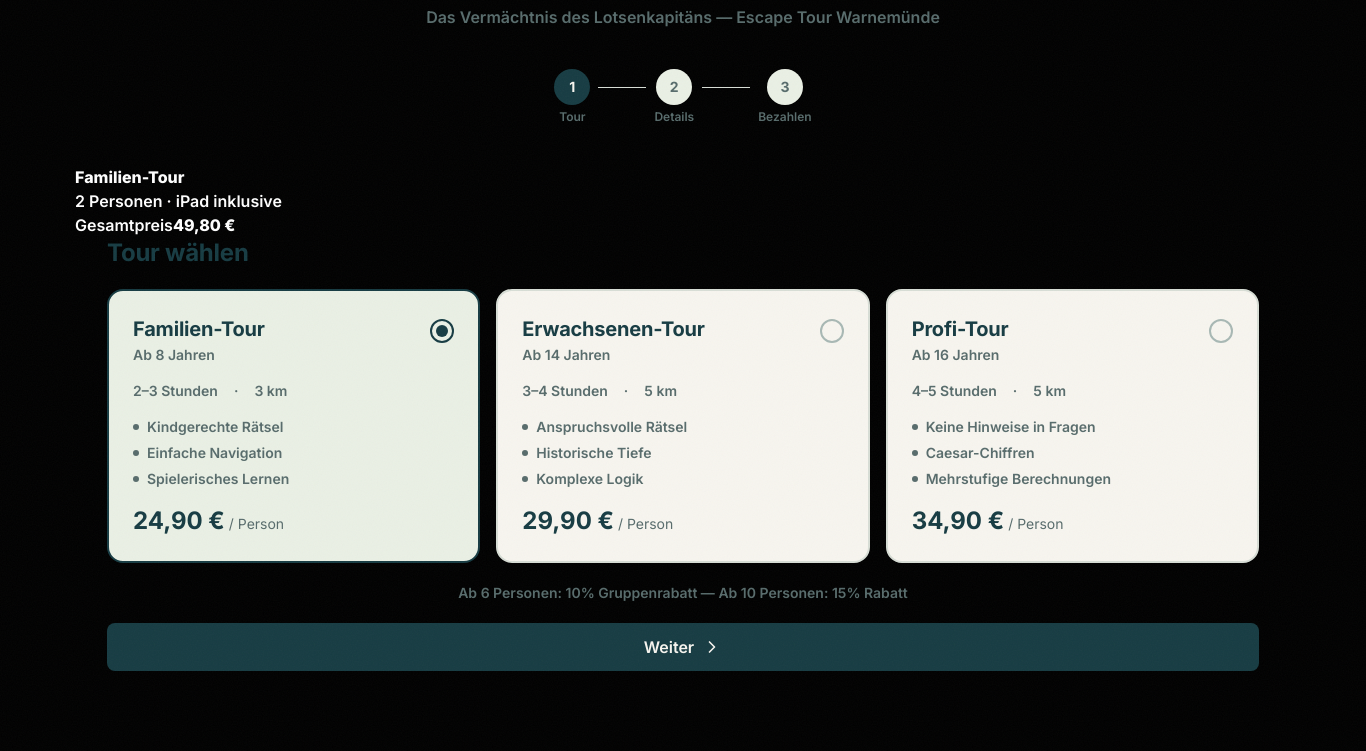
Test: Booking selection and running total › retains the selected landing-page variant and applies the checkout discount rounding
The width and height of the screenshot is (1366, 751).
(page scrolled)
Expected: the text "Familien-Tour" is shown, left=75, top=167, right=184, bottom=187
Expected: the text "49,80 €" is shown, left=173, top=215, right=235, bottom=235
Click the button "Weiter". click: x=683, y=647
box: left=107, top=623, right=1259, bottom=671
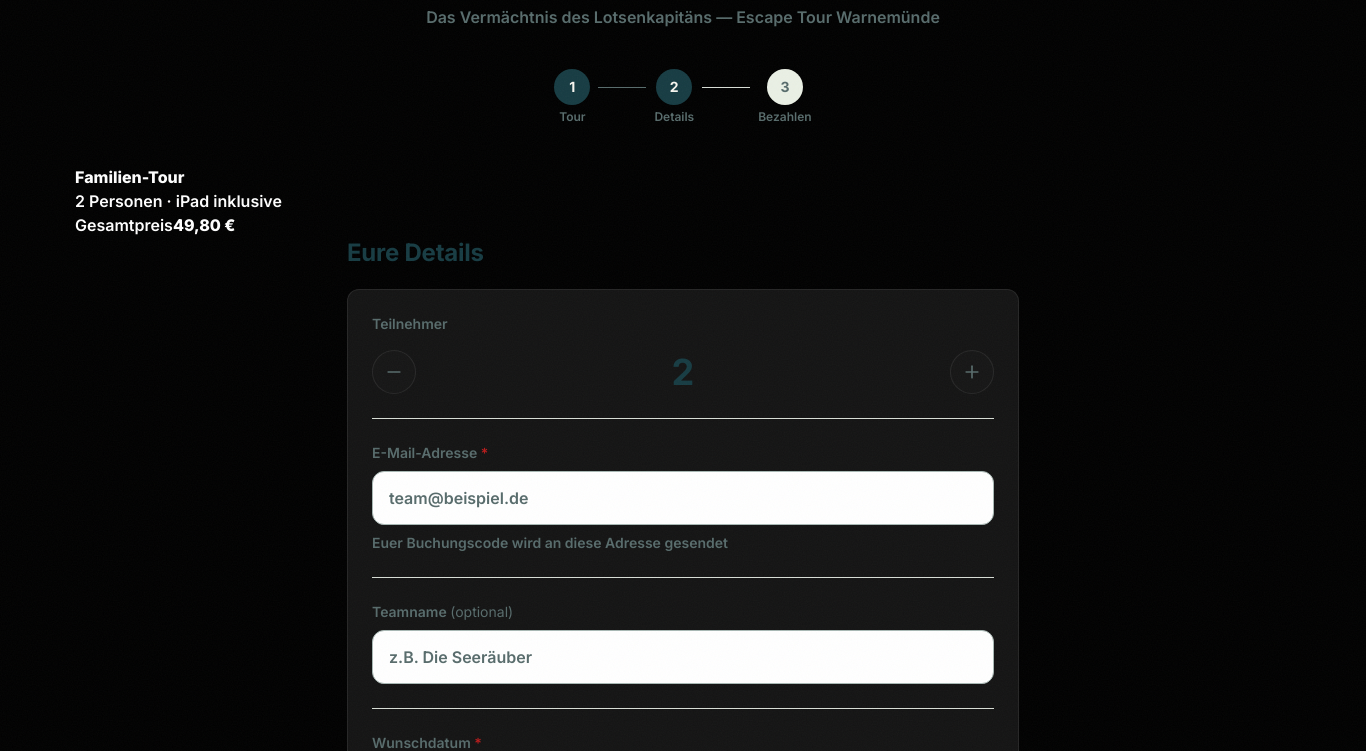
Click the button named "Teilnehmer erhöhen". click: x=972, y=372
box: left=950, top=350, right=994, bottom=394
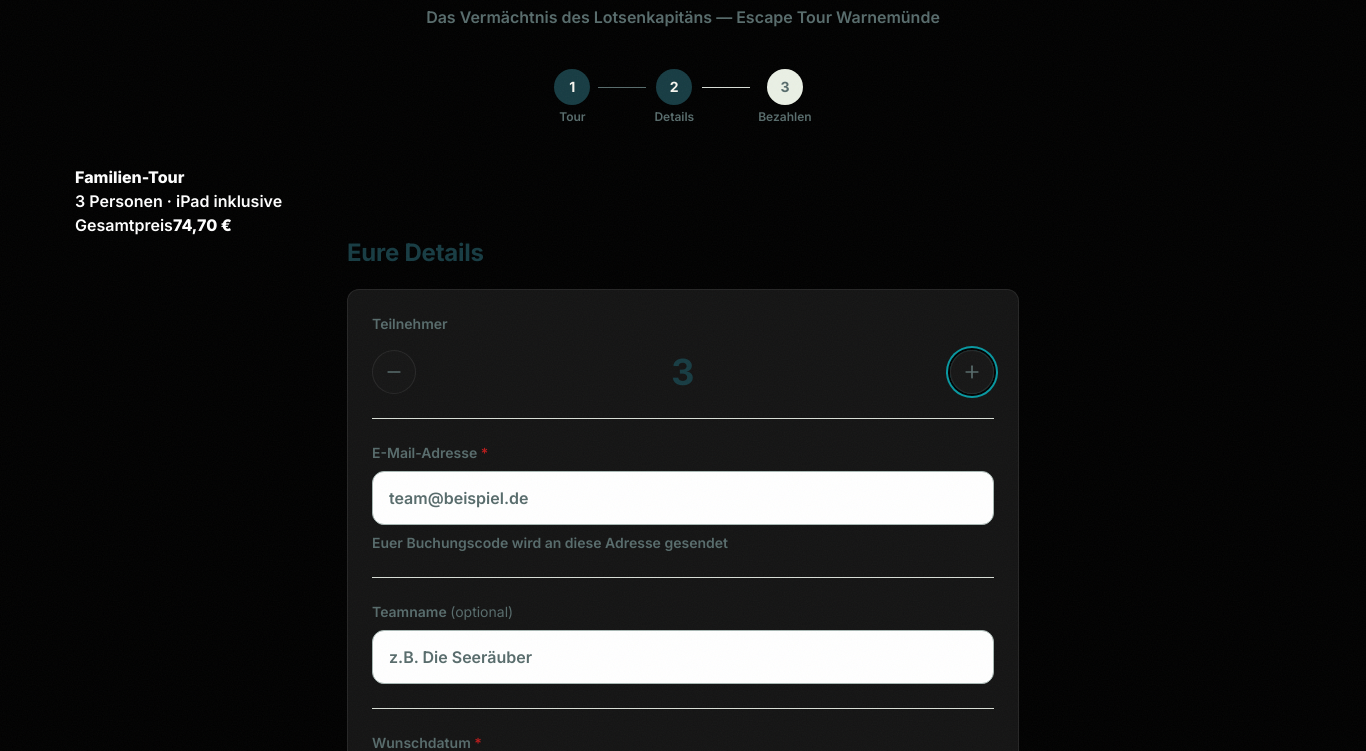
Click the button named "Teilnehmer erhöhen". click: x=972, y=372
box: left=950, top=350, right=994, bottom=394
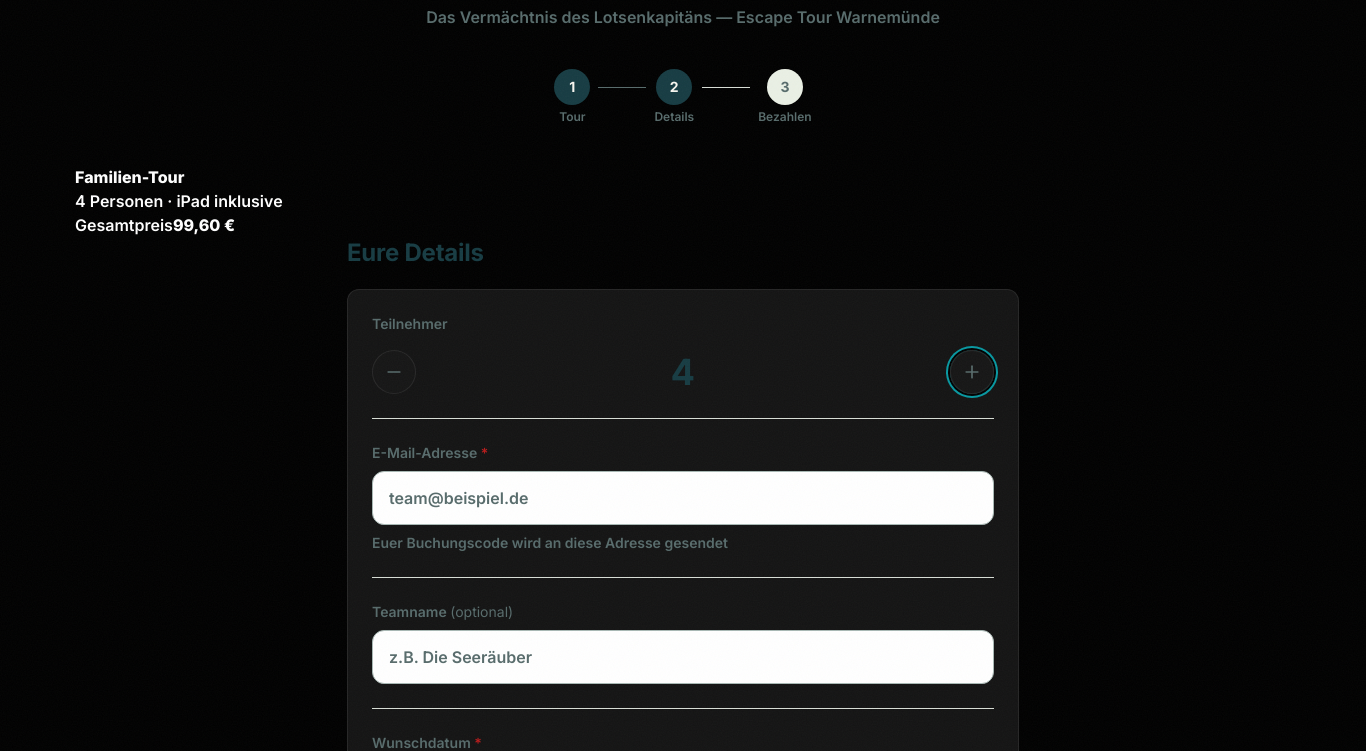
Click the button named "Teilnehmer erhöhen". click: x=972, y=372
box: left=950, top=350, right=994, bottom=394
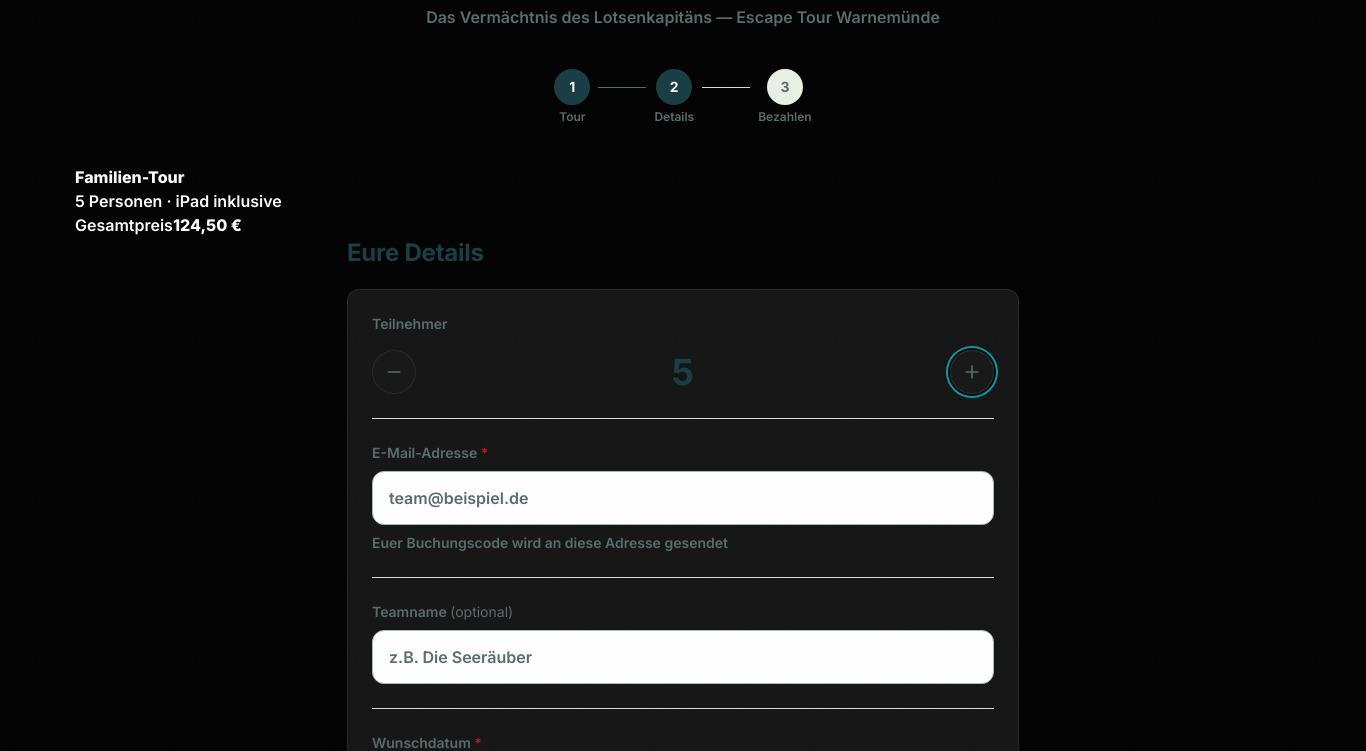
Click the button named "Teilnehmer erhöhen". click: x=972, y=372
box: left=950, top=350, right=994, bottom=394
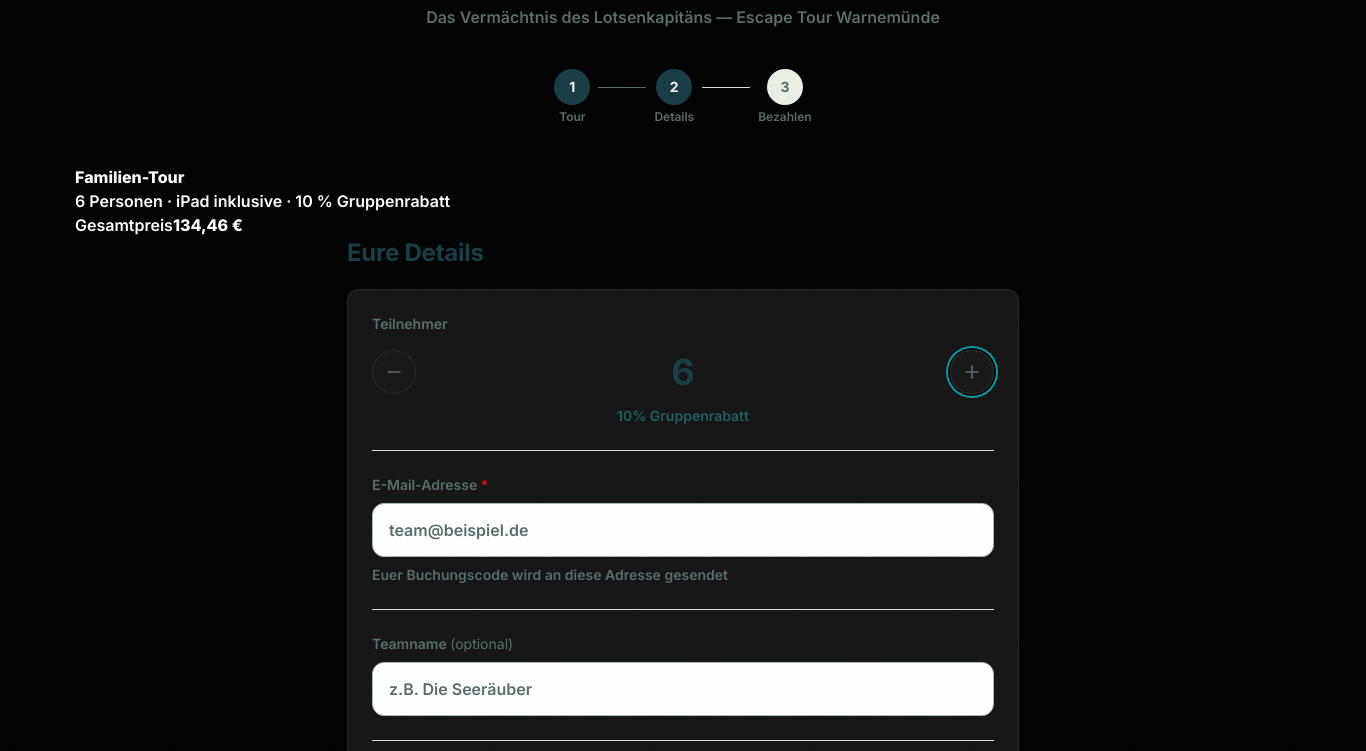
Result: the text "134,46 €" is shown at left=173, top=215, right=243, bottom=235
Result: the text "6 Personen · iPad inklusive · 10 % Gruppenrabatt" is shown at left=75, top=191, right=450, bottom=211
